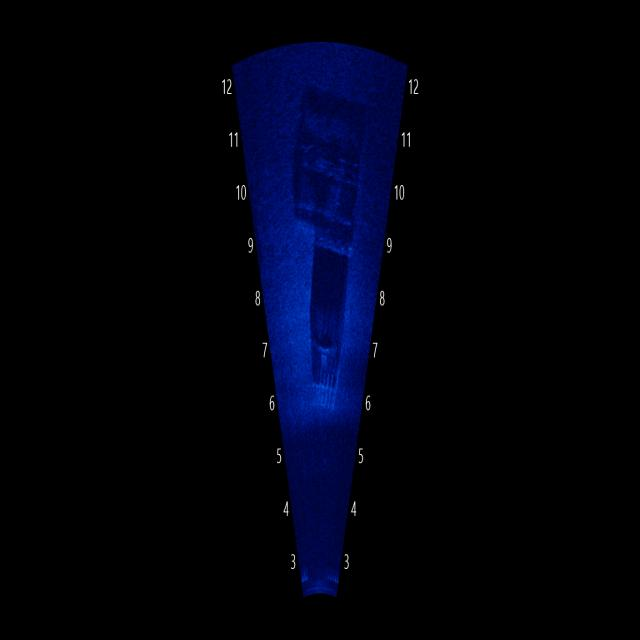square: (286, 74, 382, 264), (296, 251, 364, 430)
